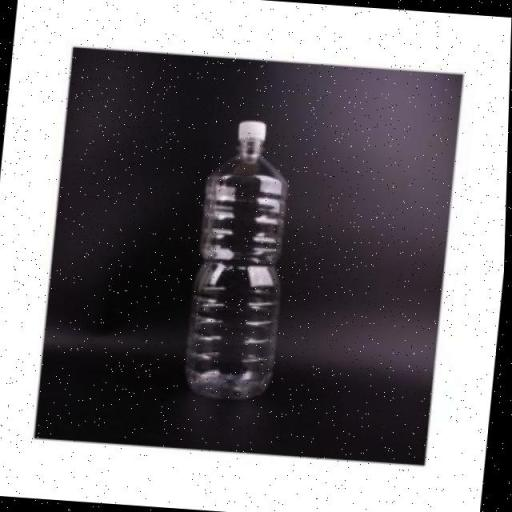plastic: (183, 117, 297, 404)
